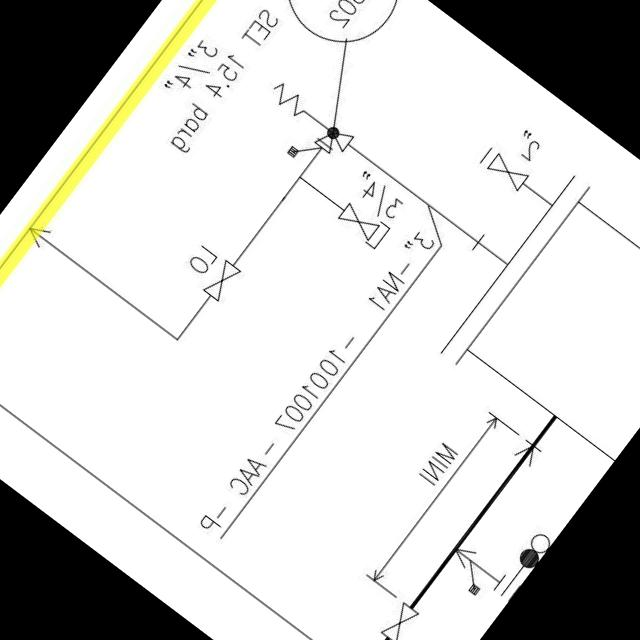EC: (311, 180, 396, 254)
GV: (194, 252, 247, 308), (479, 148, 532, 196), (332, 198, 382, 244), (373, 598, 420, 640)
RPV: (248, 70, 364, 172)
